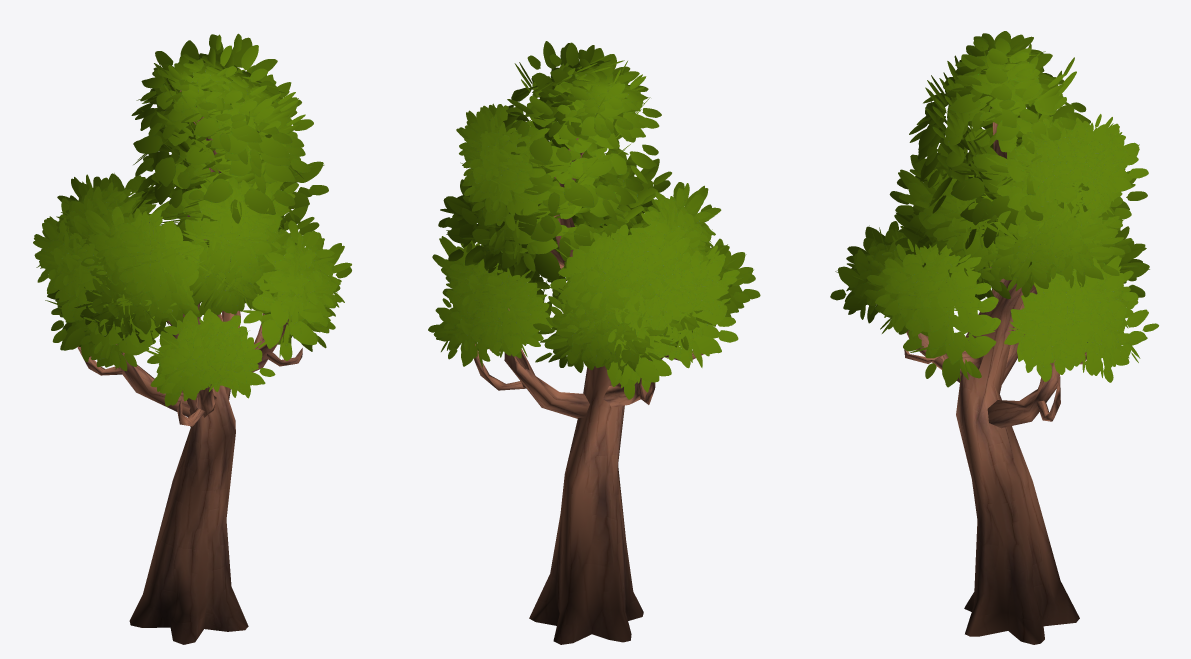
File: commontree-2.glb
The picture shows the model from 3 angles, left to right: view 1: azimuth 30°, elevation 25°; view 2: azimuth 150°, elevation 25°; view 3: azimuth 270°, elevation 25°; orthographic projection. The views are drawn at different scales.
Parts seen in each view (by area): view 1: CommonTree_2; view 2: CommonTree_2; view 3: CommonTree_2.
Boxes of the visible parts, x1,y1,x2,y2 form: CommonTree_2: [33, 33, 351, 644]; CommonTree_2: [428, 41, 760, 644]; CommonTree_2: [830, 31, 1158, 644].
Bounding box in the file's own units: 4.46 × 7.65 × 4.28.
2 materials, 2 textured.
